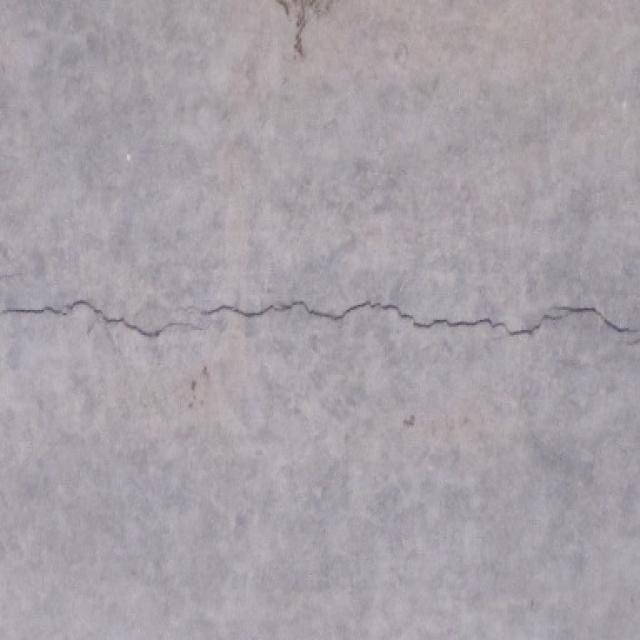Transverse: (0, 260, 640, 368)
